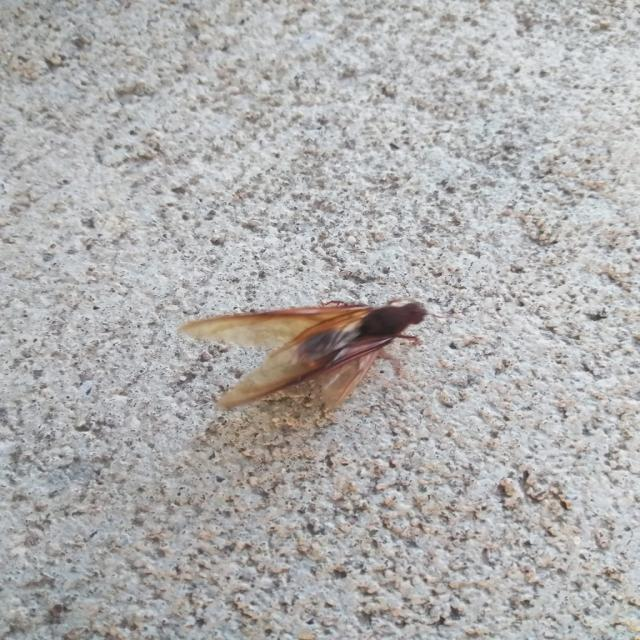Alive-Female-Alate: (176, 296, 463, 411)
